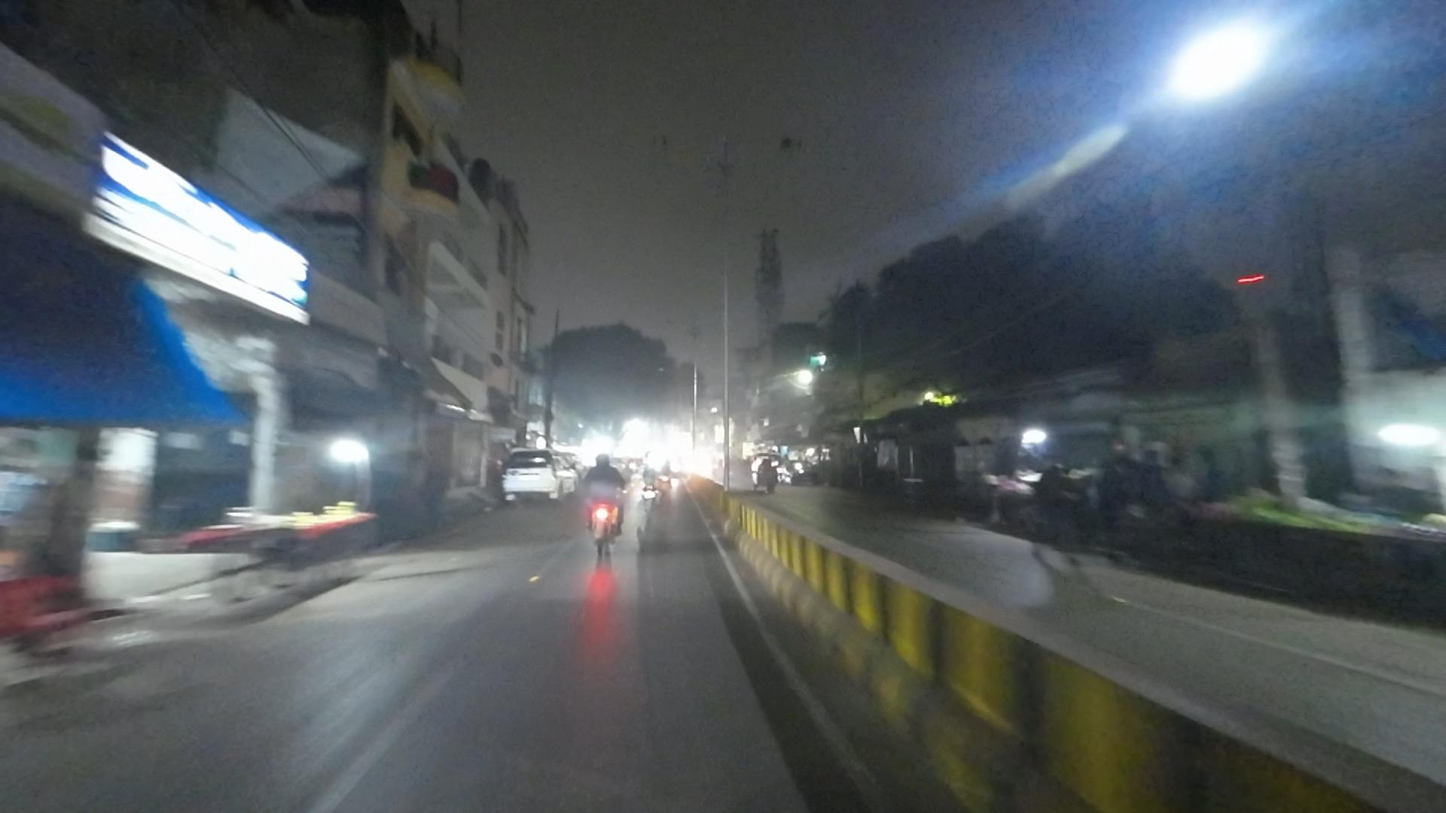streetlight: (644, 126, 713, 152), (739, 135, 808, 153)
